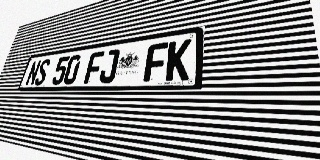0: (62, 54, 82, 84)
5: (51, 56, 70, 85)
F: (143, 42, 169, 82), (83, 51, 105, 84)
J: (98, 49, 120, 83)
K: (165, 39, 192, 81)
N: (25, 60, 42, 86)
S: (34, 59, 51, 85)
